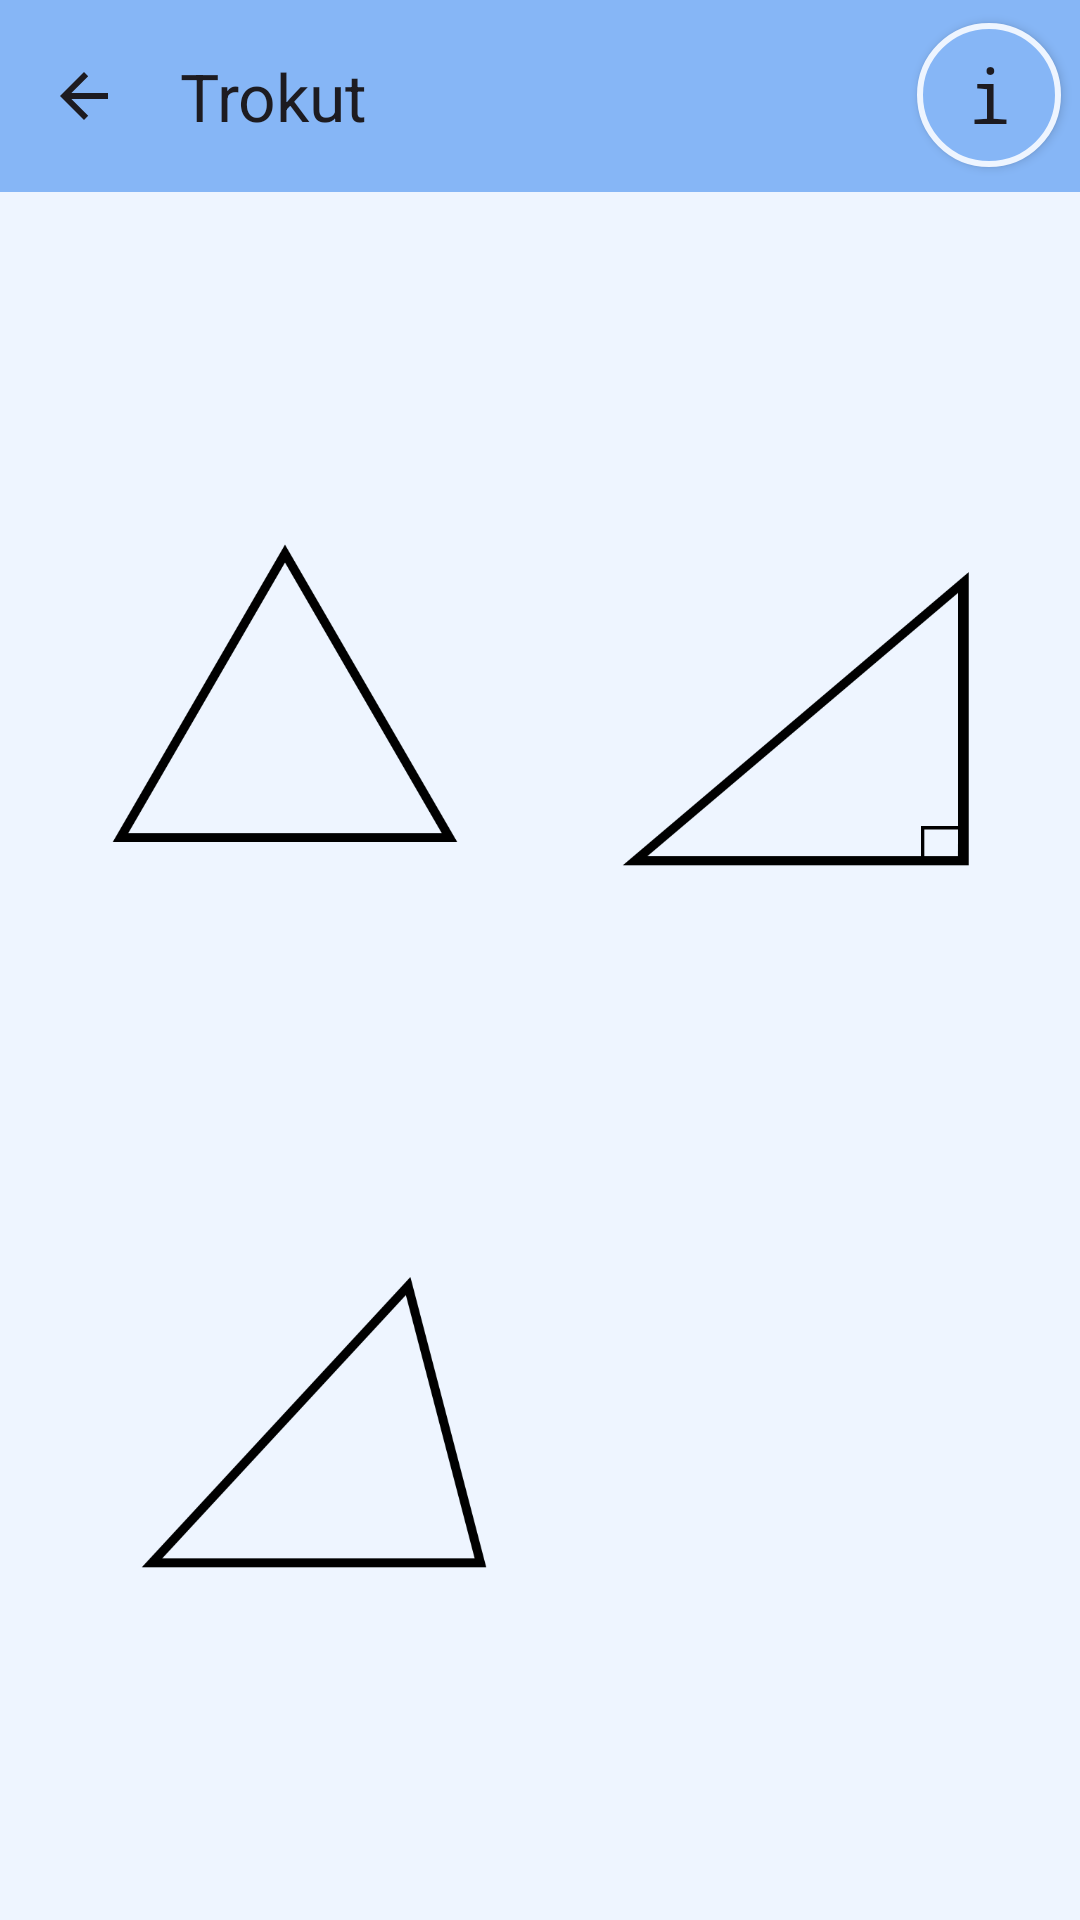

Locate icon controls on the screen. Image size 1080x1920, boxes as [left=x1, top=y1, right=x2, bottom=y2].
Jednakostraničan trokut: [left=113, top=545, right=457, bottom=842]
Pravokutni trokut: [left=623, top=572, right=969, bottom=866]
Raznostranični trkout: [left=142, top=1277, right=487, bottom=1568]
